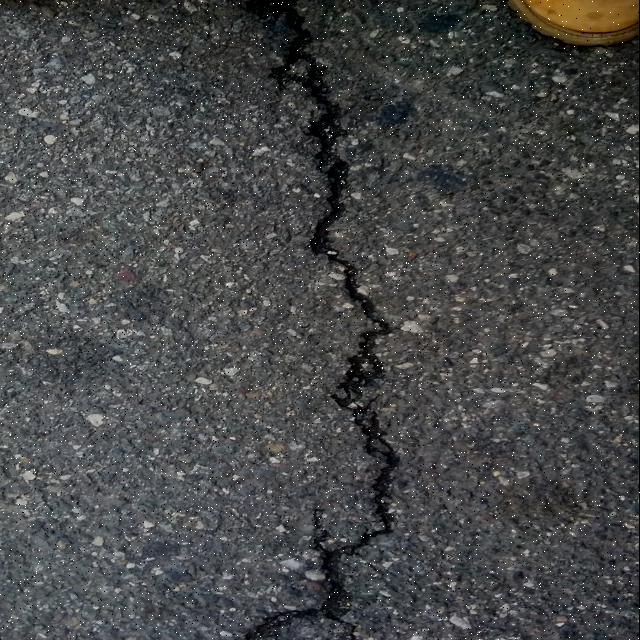Crack: (237, 0, 404, 640)
